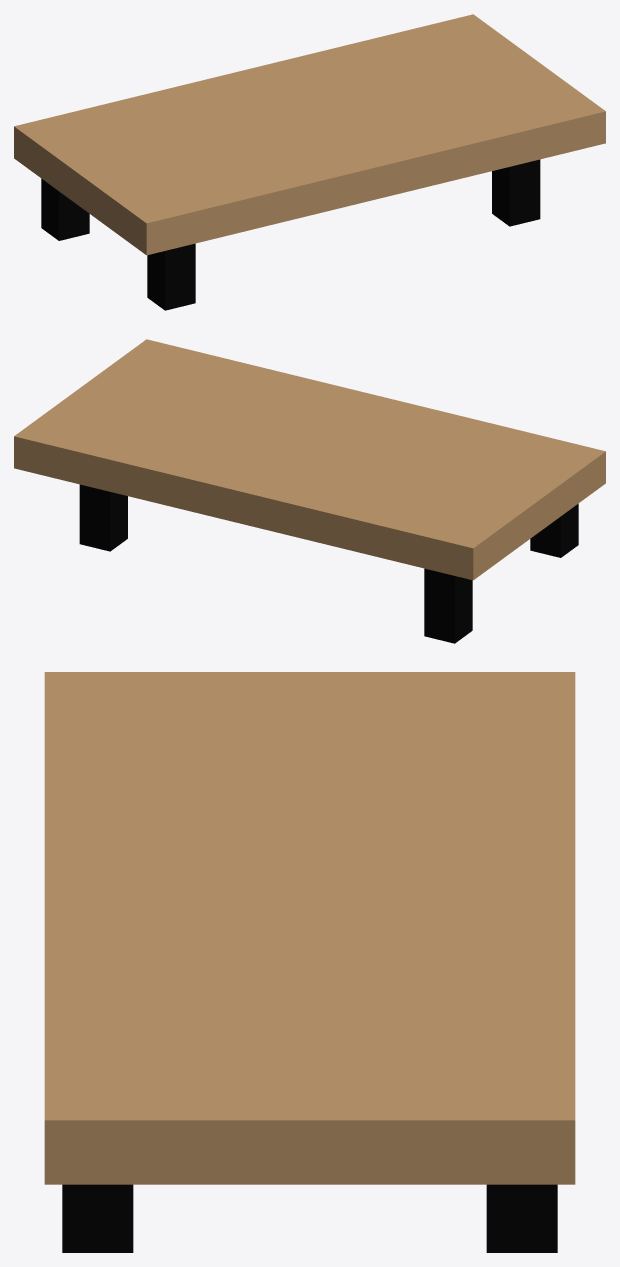
The model's file is te-buru.fbx.
3 renders of one model, top to bottom at view 1: azimuth 30°, elevation 25°; view 2: azimuth 150°, elevation 25°; view 3: azimuth 270°, elevation 25°, orthographic. The views are drawn at different scales.
Parts seen in each view (by area): view 1: Cube, 立方体.001, 立方体.003, 立方体.002; view 2: Cube, 立方体.002, 立方体, 立方体.003; view 3: Cube, 立方体, 立方体.001.
Part boxes in pixels (<box>): Cube: <box>14,14,605,255</box>; 立方体.001: <box>492,159,540,226</box>; 立方体.003: <box>147,243,195,310</box>; 立方体.002: <box>41,178,89,240</box>; Cube: <box>14,339,605,580</box>; 立方体.002: <box>424,568,472,643</box>; 立方体: <box>79,484,127,551</box>; 立方体.003: <box>530,503,578,557</box>; Cube: <box>44,672,575,1184</box>; 立方体: <box>486,1184,557,1252</box>; 立方体.001: <box>62,1184,133,1252</box>.
Size of the model in its own units: 300 by 65 by 150.
